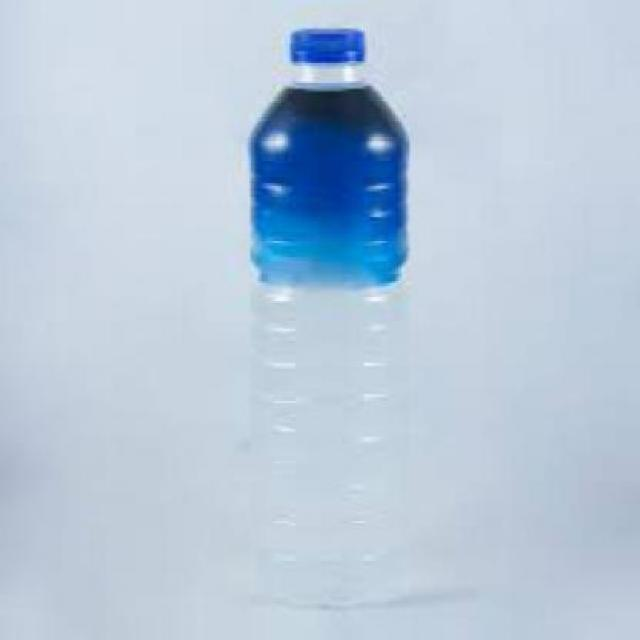bottle: (244, 26, 412, 609)
